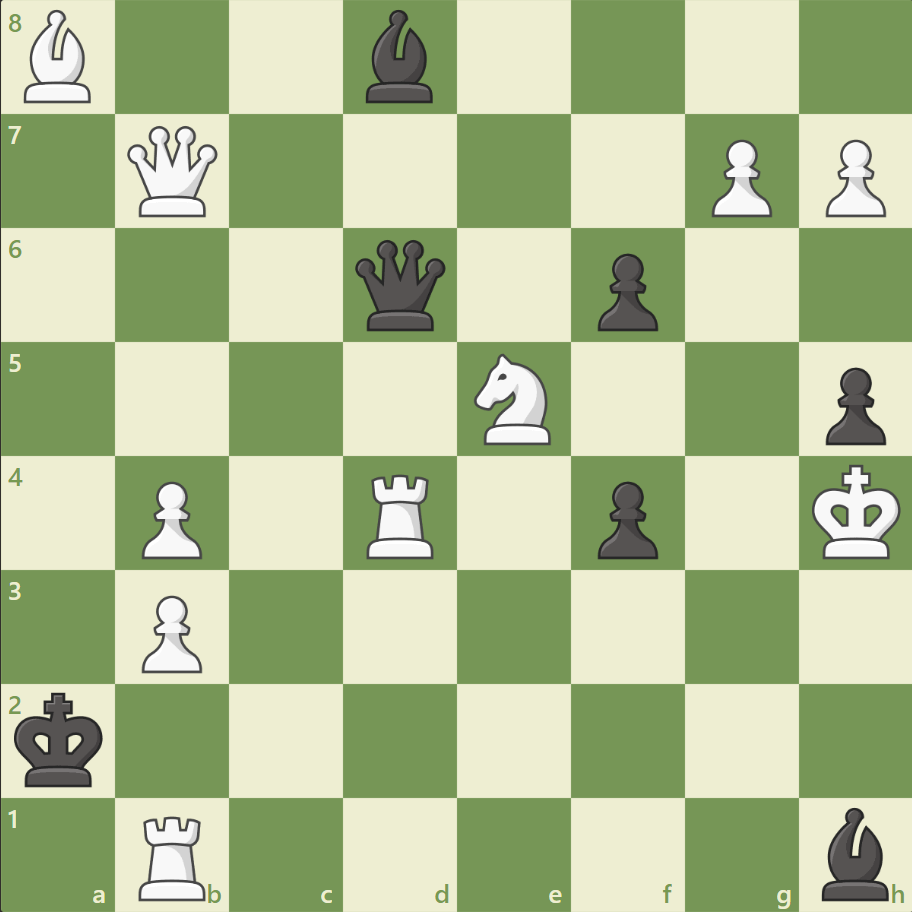B: (17, 6, 101, 109)
K: (806, 458, 906, 566)
N: (465, 348, 562, 450)
P: (701, 132, 776, 223), (133, 473, 208, 564), (133, 586, 208, 677), (815, 132, 889, 223)
Q: (124, 122, 223, 222)
R: (133, 806, 215, 904), (360, 466, 442, 563)
b: (358, 6, 442, 109), (812, 801, 896, 904)
k: (11, 685, 111, 793)
p: (588, 246, 662, 337), (815, 359, 889, 450), (588, 473, 662, 564)
q: (351, 236, 450, 335)
